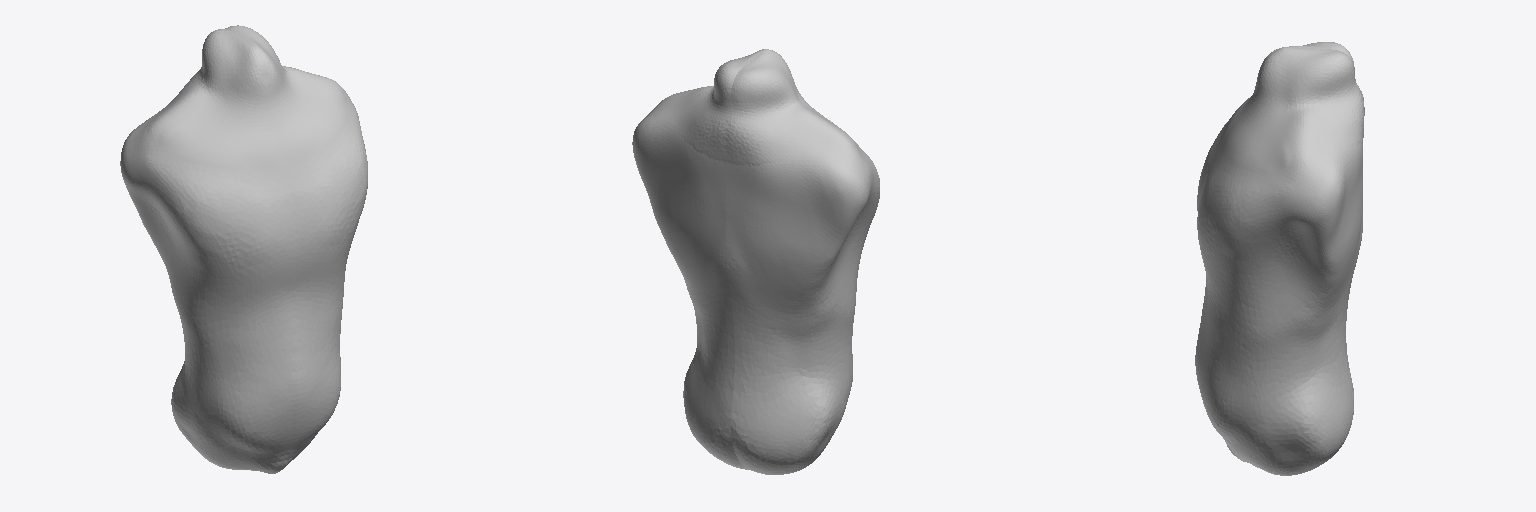
Rendered from torso.obj.
3 renders of one model, left to right at view 1: azimuth 30°, elevation 25°; view 2: azimuth 150°, elevation 25°; view 3: azimuth 270°, elevation 25°, orthographic.
Size of the model in its own units: 2.74 by 4.76 by 1.75.